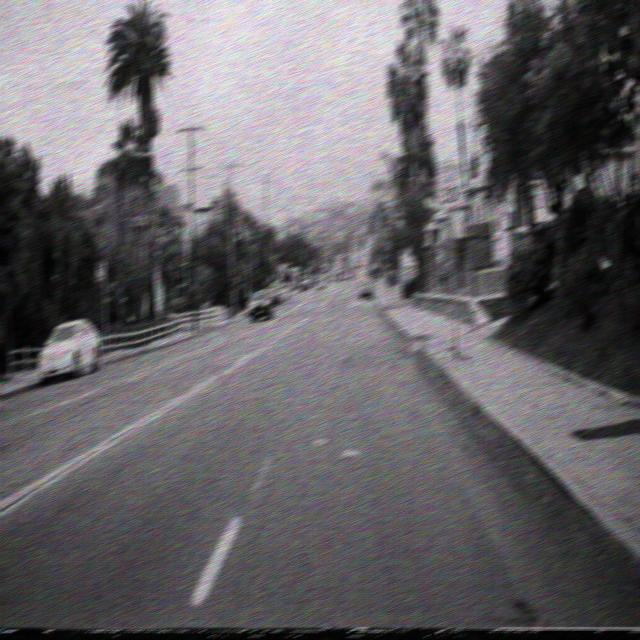speedLimit30: (437, 156, 461, 210)
